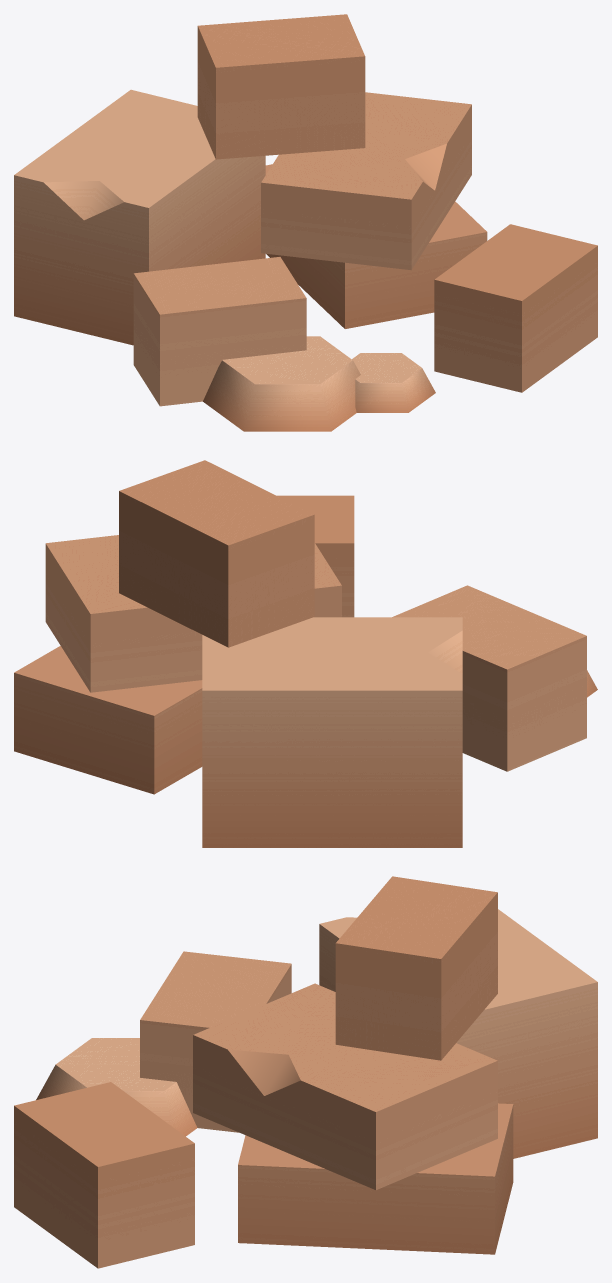
3 views of the same model, one above another, from view 1: azimuth 30°, elevation 25°; view 2: azimuth 150°, elevation 25°; view 3: azimuth 270°, elevation 25° (orthographic). The views are drawn at different scales.
Parts seen in each view (by area): view 1: bricks; view 2: bricks; view 3: bricks.
Part boxes in pixels (x1,y1,x2,y2): bricks: (14,14,597,431); bricks: (14,460,597,847); bricks: (14,876,597,1268).
Size of the model in its own units: 0.772 by 0.4125 by 0.8469.
1 material, 1 textured.
